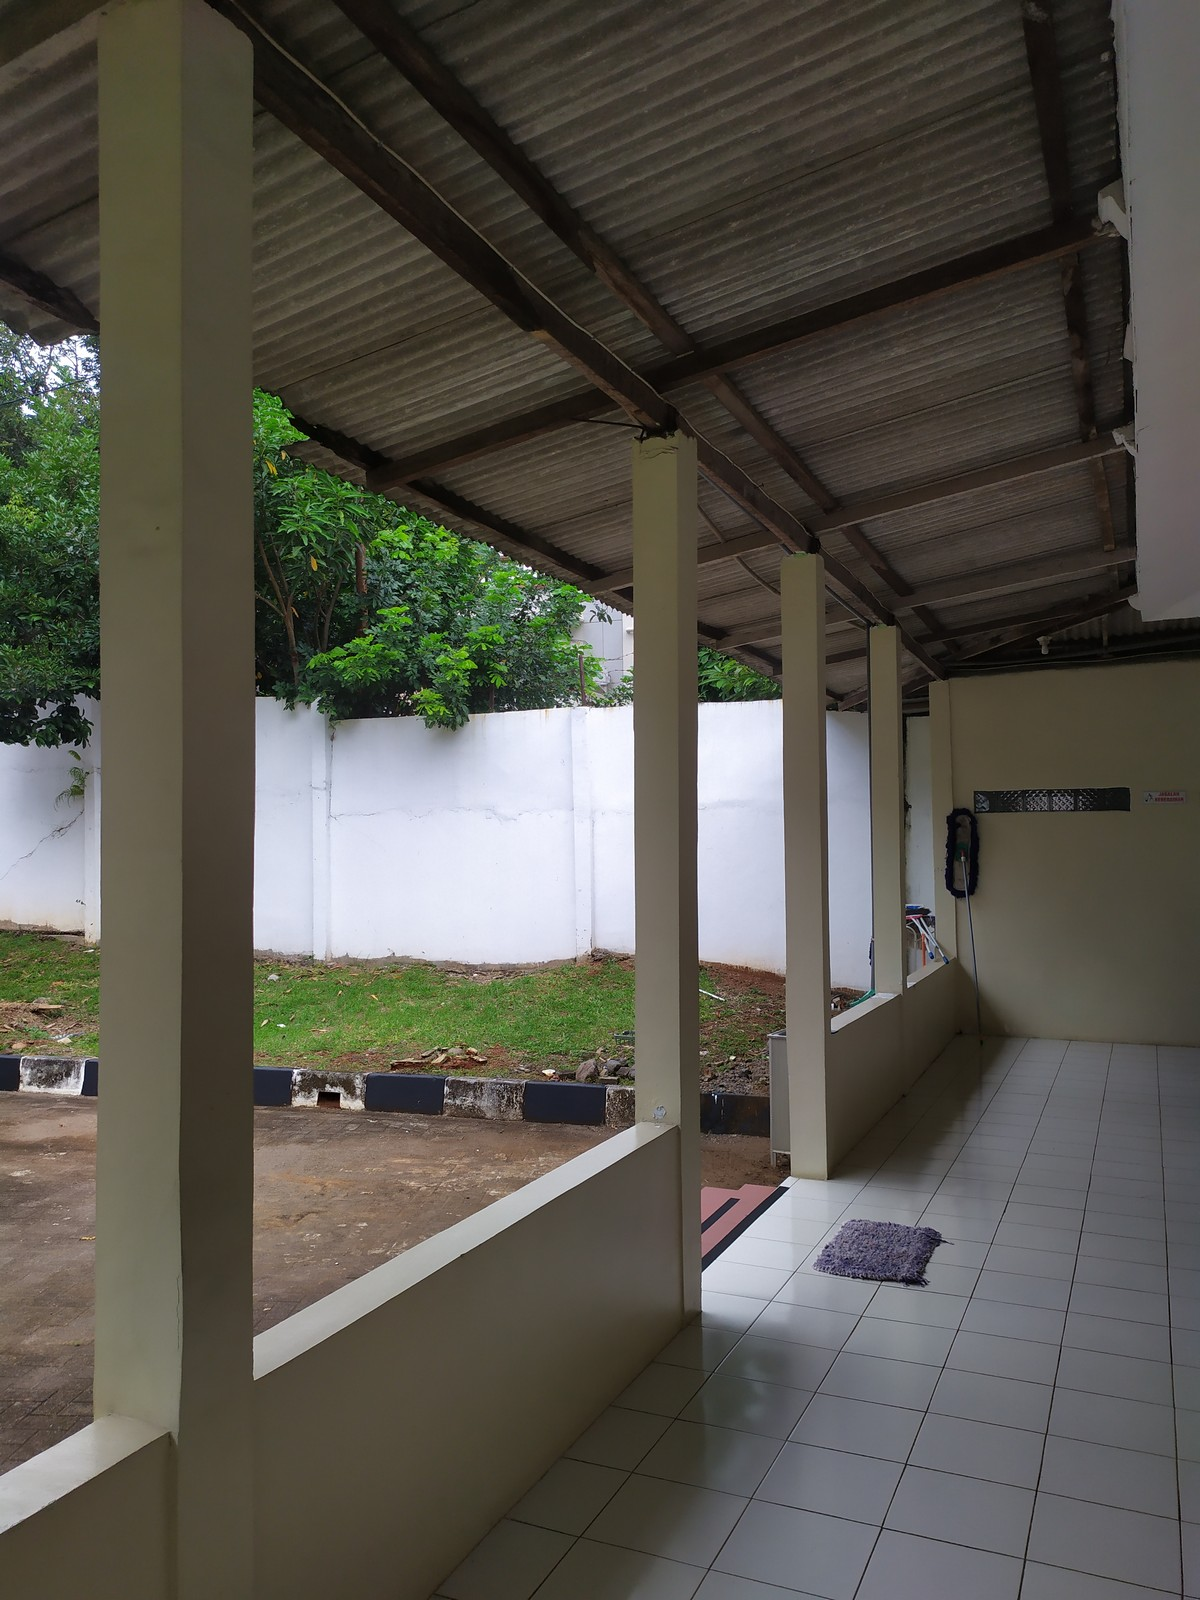concrete column: (86, 1, 263, 1597), (623, 427, 708, 1353), (775, 546, 839, 1180), (863, 619, 911, 1003)
